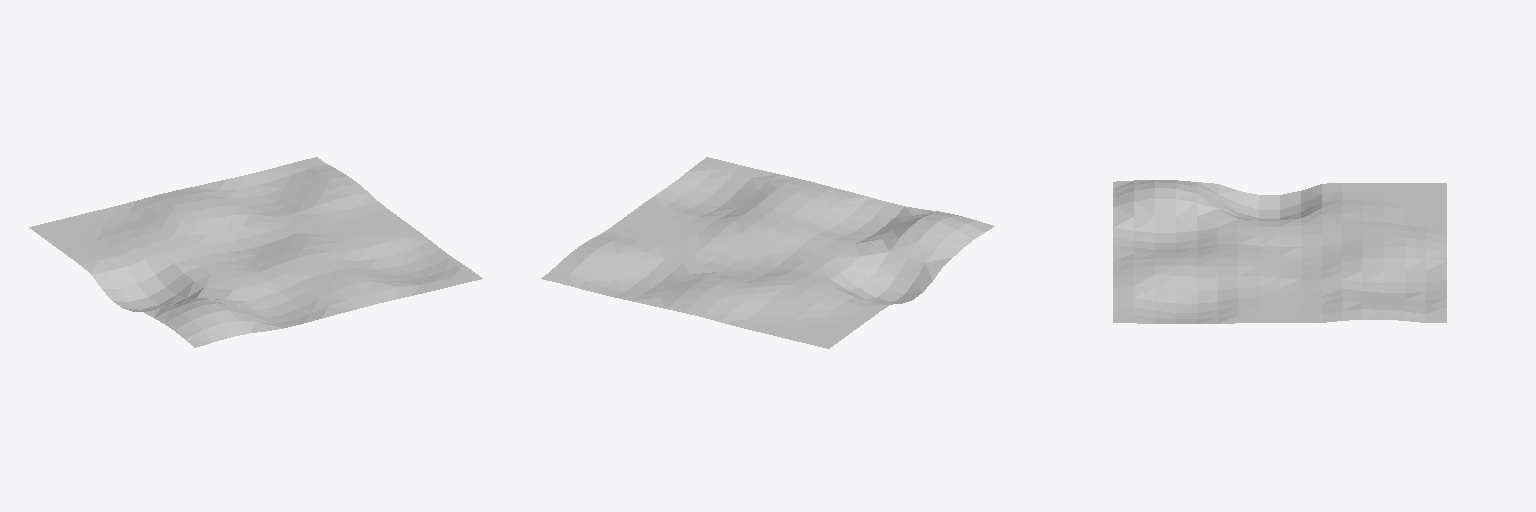
File: test_ground.obj
3 views of the same model, side by side, from view 1: azimuth 30°, elevation 25°; view 2: azimuth 150°, elevation 25°; view 3: azimuth 270°, elevation 25° (orthographic).
Parts seen in each view (by area): view 1: Plane.001; view 2: Plane.001; view 3: Plane.001.
Boxes of the visible parts, box(x1,y1,x2,y2) form: Plane.001: box(29, 157, 482, 347); Plane.001: box(541, 157, 994, 348); Plane.001: box(1113, 180, 1446, 323).
Size of the model in its own units: 15.78 by 1.6 by 15.78.